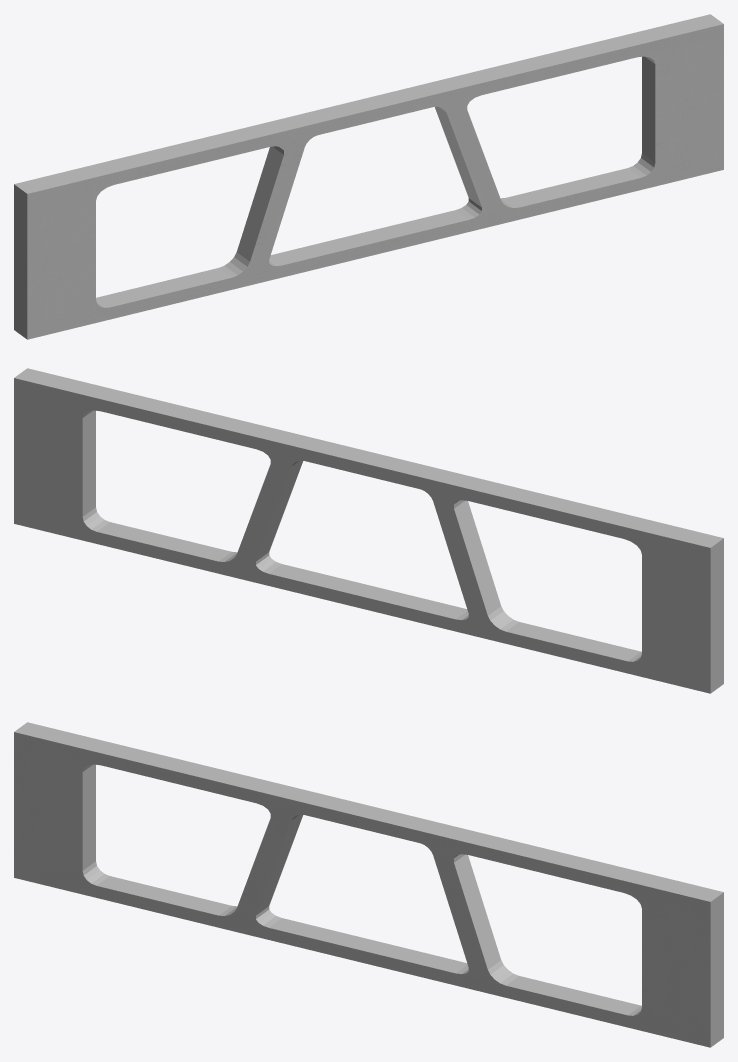
Rendered from windowwallobj.obj.
The picture shows the model from 3 angles, top to bottom: view 1: azimuth 30°, elevation 25°; view 2: azimuth 150°, elevation 25°; view 3: azimuth 330°, elevation 25°; orthographic projection.
Visible parts, largest first — view 1: Okno.NR1.001_Cube.051; view 2: Okno.NR1.001_Cube.051; view 3: Okno.NR1.001_Cube.051.
Part boxes in pixels (x1,y1,x2,y2): Okno.NR1.001_Cube.051: (14, 14, 723, 339); Okno.NR1.001_Cube.051: (14, 368, 723, 693); Okno.NR1.001_Cube.051: (14, 722, 723, 1047).
Bounding box in the file's own units: 30 × 6 × 1.
Materials: 1 (1 with a texture image).
